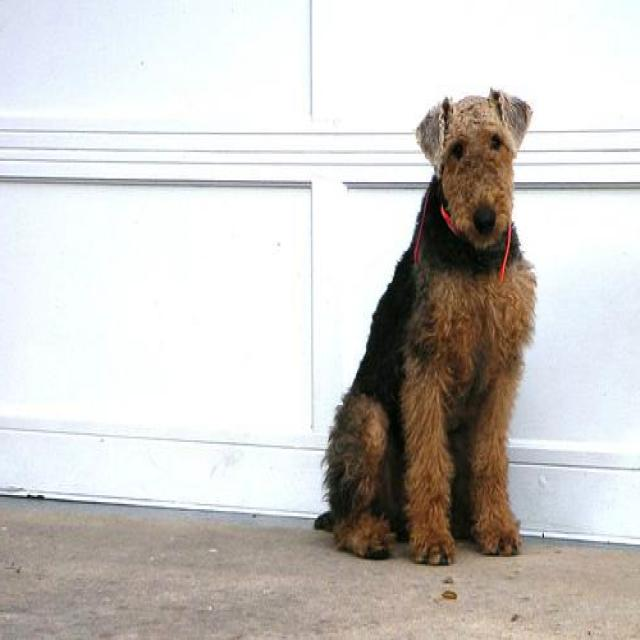airedale: (307, 85, 540, 569)
